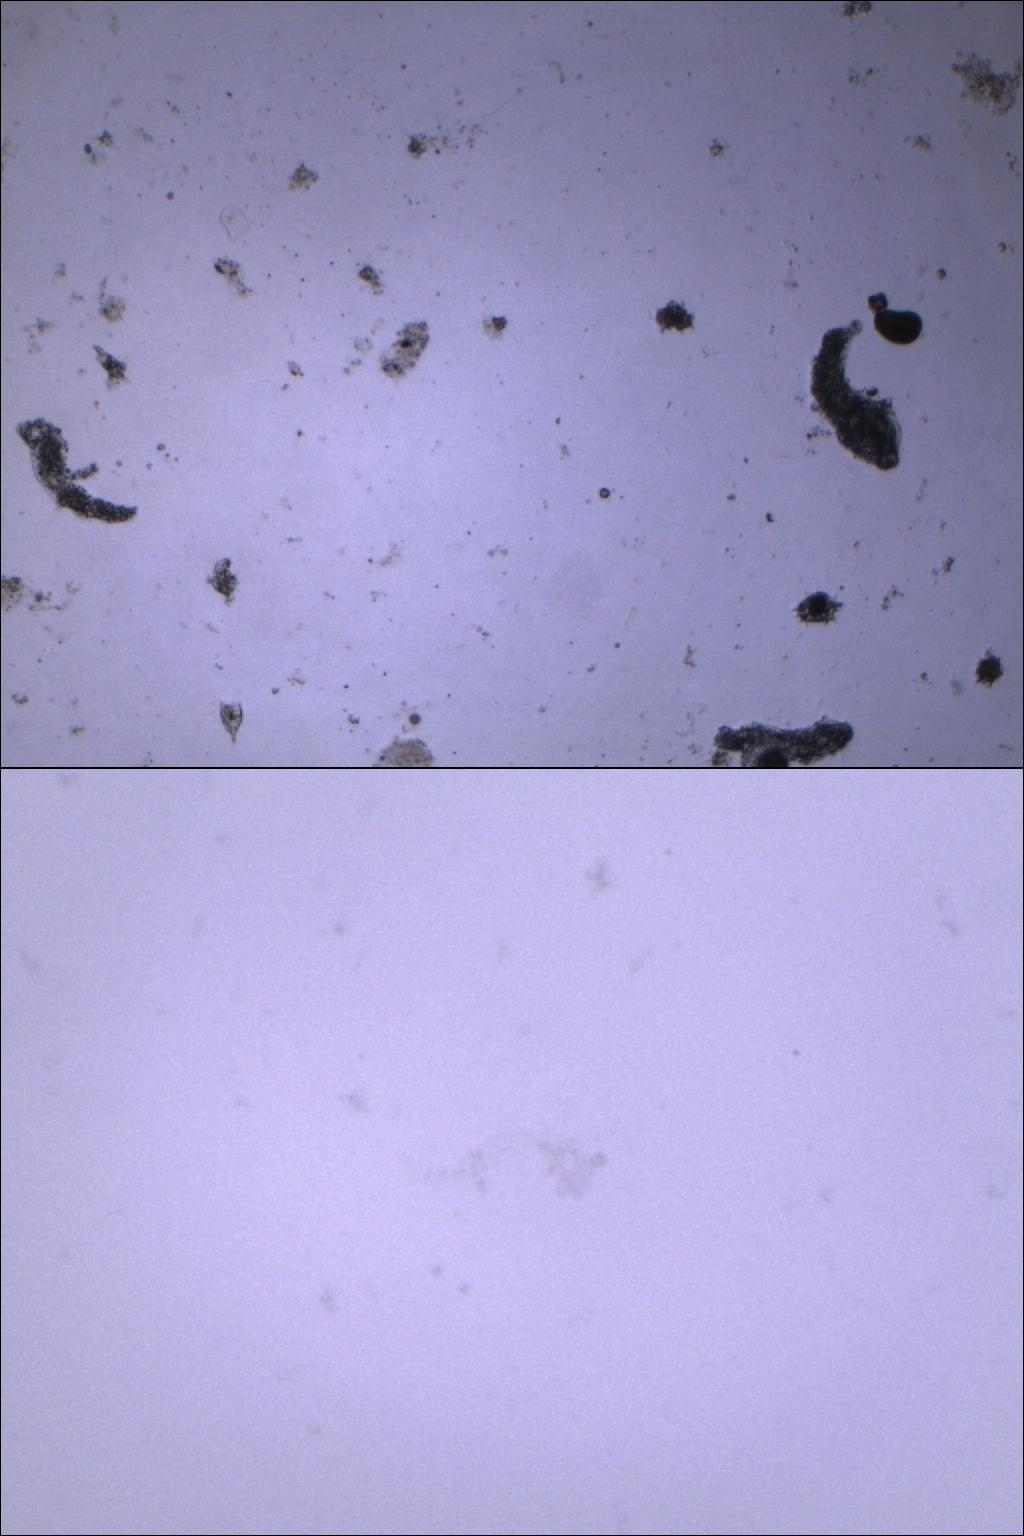N.Fowleri Amoeba: (405, 1115, 627, 1229)
Proteus Amoeba: (10, 408, 155, 538), (801, 315, 907, 482)
